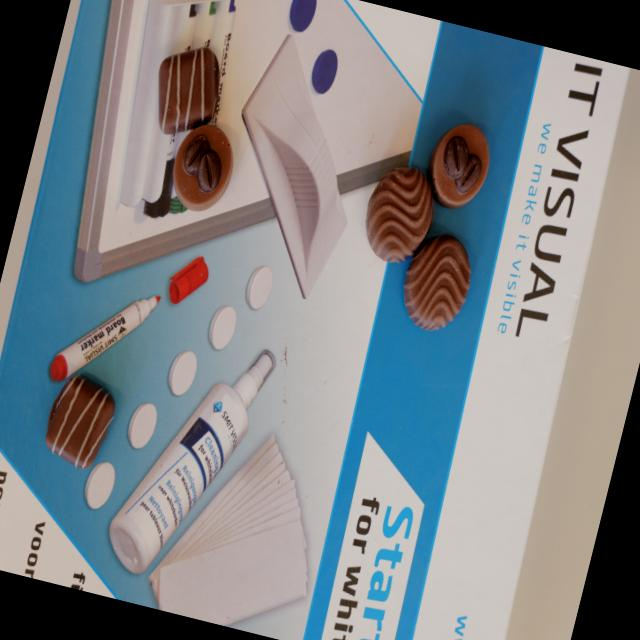Arabia: (420, 116, 500, 214), (164, 118, 242, 215)
Noir_authentique: (356, 160, 443, 270), (394, 229, 480, 338)
Stracciatella: (146, 40, 231, 142), (37, 370, 120, 474)
